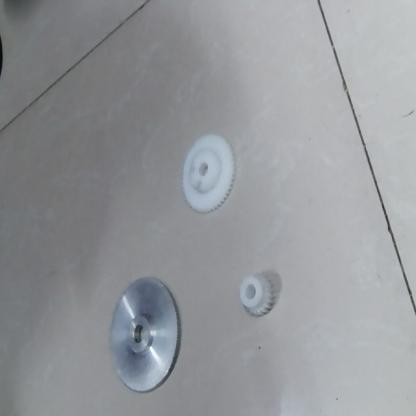FOD: (110, 271, 184, 395), (175, 127, 246, 221), (236, 270, 281, 321)
